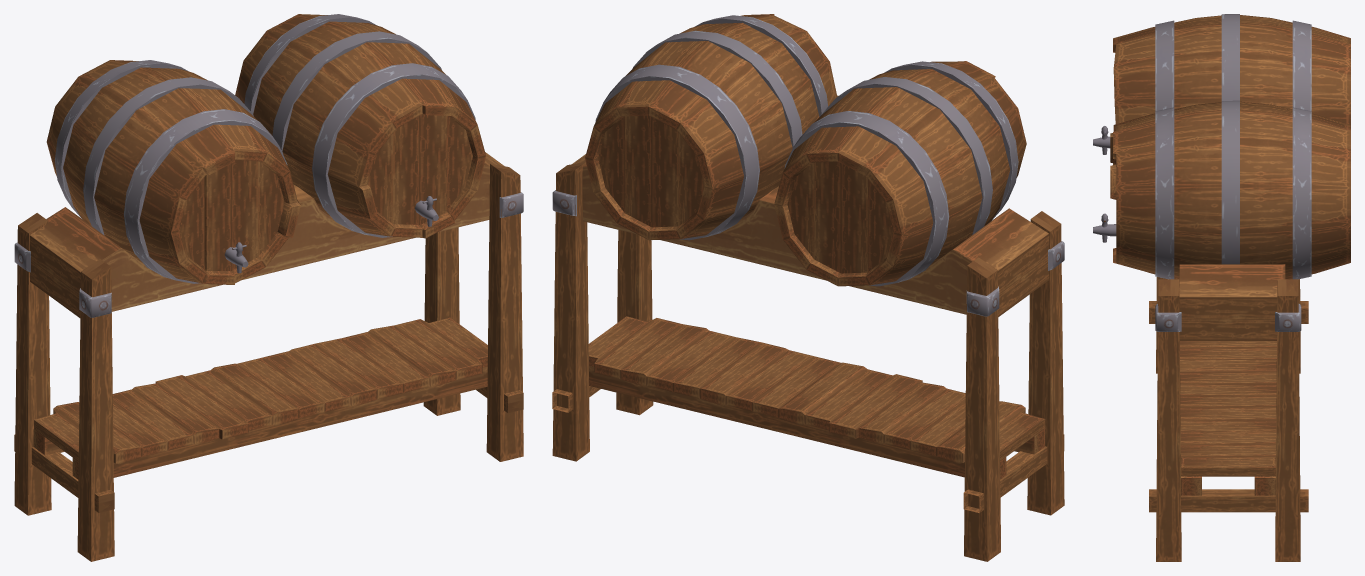
File: Barrel_Holder.fbx
The picture shows the model from 3 angles, left to right: view 1: azimuth 30°, elevation 25°; view 2: azimuth 150°, elevation 25°; view 3: azimuth 270°, elevation 25°; orthographic projection. The views are drawn at different scales.
Parts seen in each view (by area): view 1: Barrel_Holder; view 2: Barrel_Holder; view 3: Barrel_Holder.
Boxes of the visible parts, <box> form: Barrel_Holder: <box>14,14,523,561</box>; Barrel_Holder: <box>552,14,1064,561</box>; Barrel_Holder: <box>1093,14,1350,561</box>.
Size of the model in its own units: 136 by 126 by 74.1.
